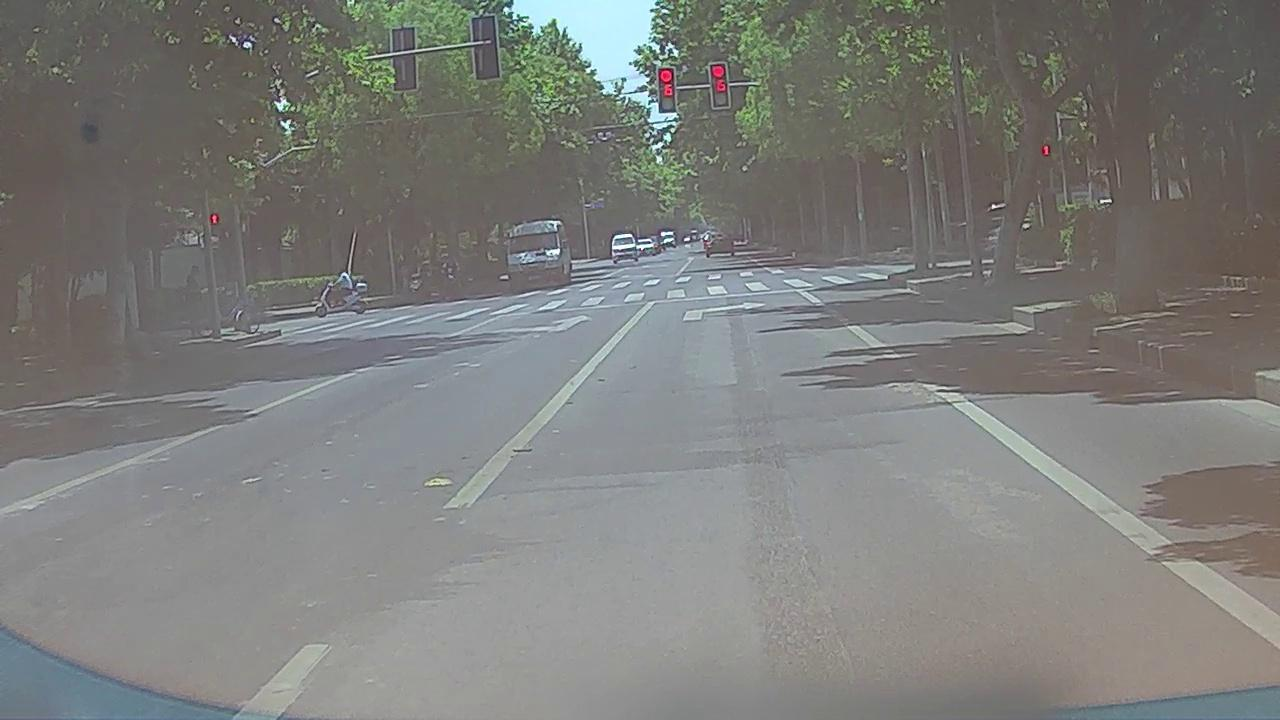traffic_light: (710, 63, 729, 107), (658, 68, 676, 110)
